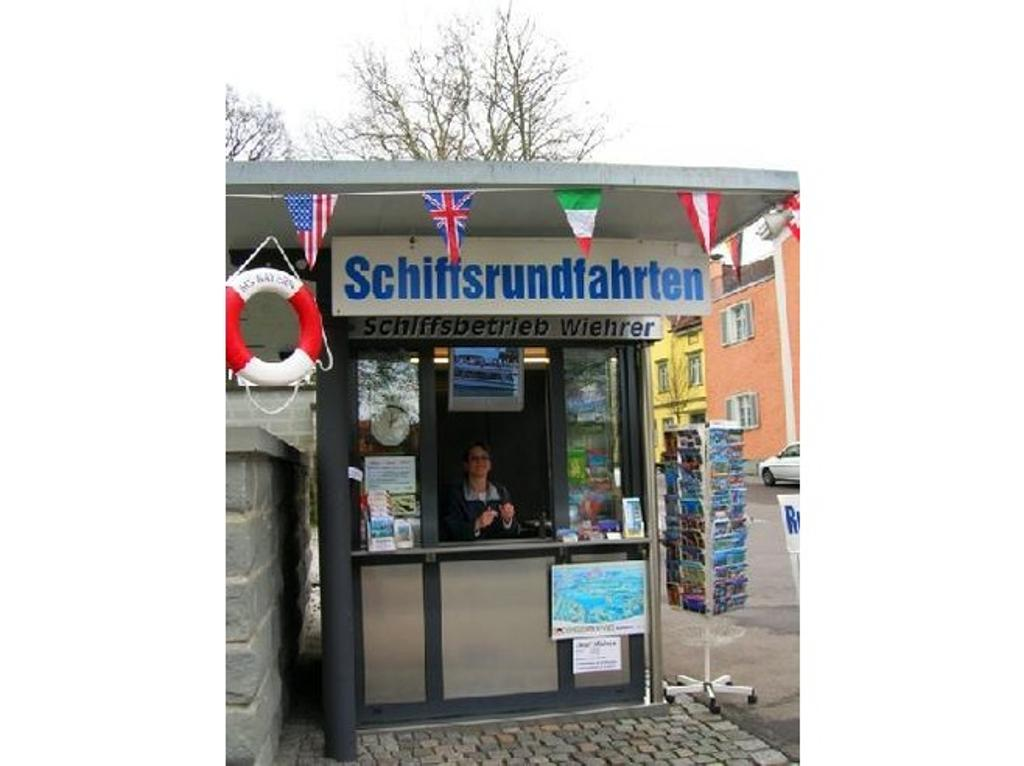face: (469, 446, 490, 474)
